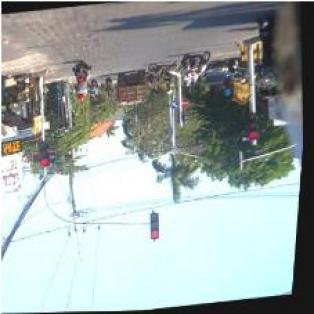Semaforo Rojo: (249, 115, 266, 144), (38, 138, 52, 166), (154, 213, 166, 241)
